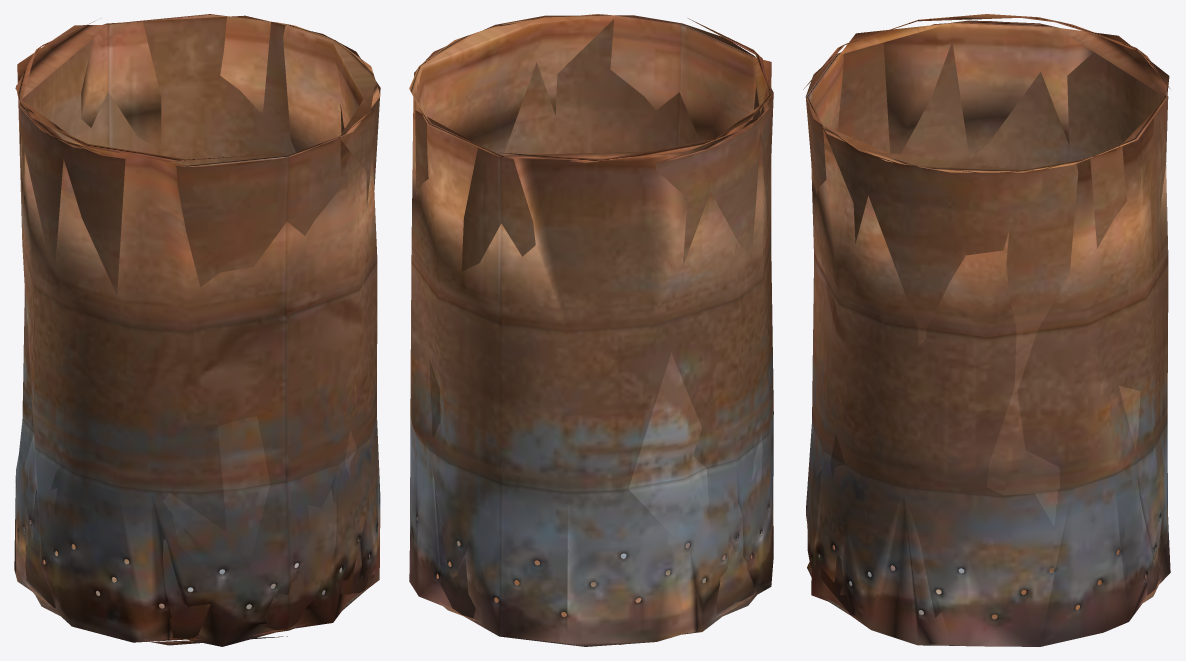
The model's file is drumRust_lo.glb.
3 renders of one model, left to right at view 1: azimuth 30°, elevation 25°; view 2: azimuth 150°, elevation 25°; view 3: azimuth 270°, elevation 25°, orthographic.
Parts seen in each view (by area): view 1: barrel_stove; view 2: barrel_stove; view 3: barrel_stove.
Part boxes in pixels (<box>): barrel_stove: <box>14,14,380,646</box>; barrel_stove: <box>409,14,773,646</box>; barrel_stove: <box>803,14,1170,646</box>.
Size of the model in its own units: 0.5776 by 0.8539 by 0.5887.
1 material, 1 textured.
